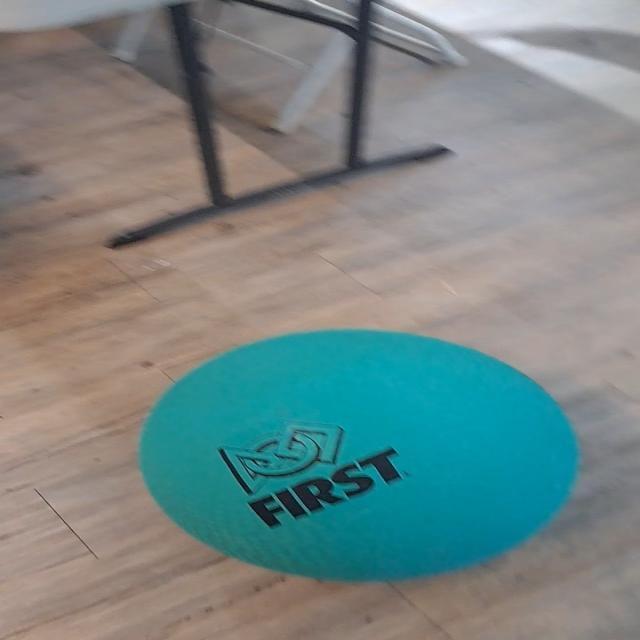ALGAE: (135, 326, 582, 584)
